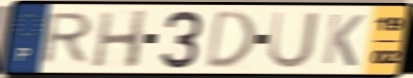3: (157, 7, 206, 71)
D: (203, 9, 259, 71)
H: (90, 8, 150, 70)
K: (319, 11, 367, 69)
R: (37, 11, 97, 67)
U: (266, 10, 321, 71)
